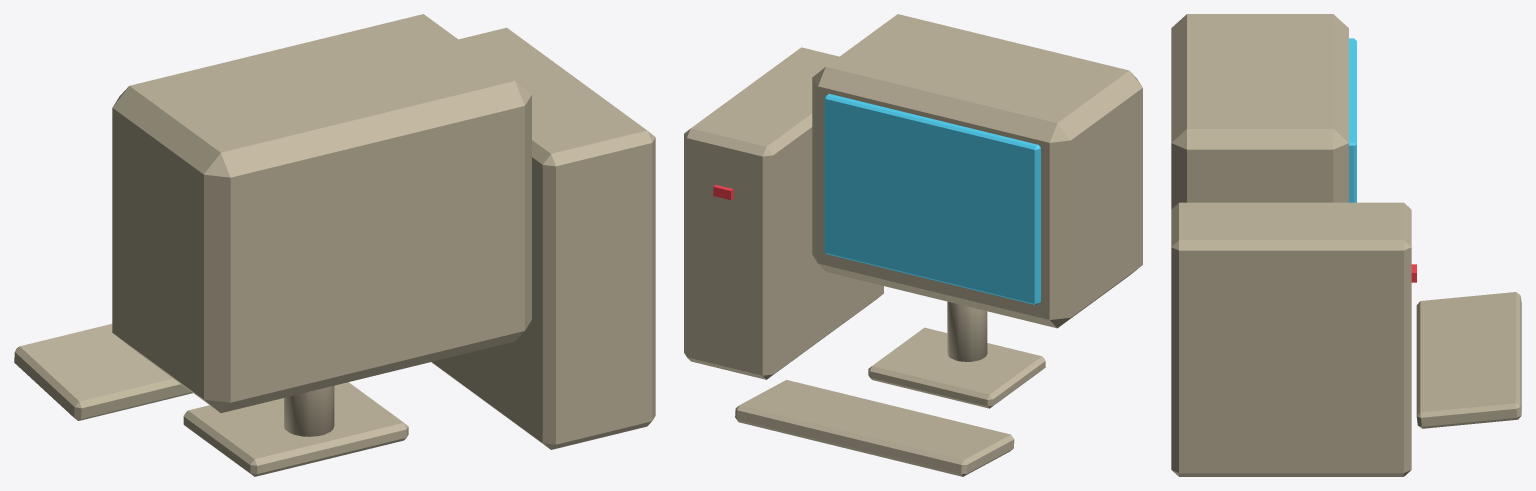
File: prop_desktop_computer.obj
The picture shows the model from 3 angles, left to right: view 1: azimuth 30°, elevation 25°; view 2: azimuth 150°, elevation 25°; view 3: azimuth 270°, elevation 25°; orthographic projection. The views are drawn at different scales.
Visible parts, largest first — view 1: MonitorShell, Tower, StandBase, Keyboard, StandNeck; view 2: MonitorShell, Tower, Screen, Keyboard, StandBase, StandNeck; view 3: Tower, MonitorShell, Keyboard, Screen.
Part boxes in pixels (x1,y1,x2,y2): MonitorShell: [112, 14, 531, 413]; Tower: [431, 27, 655, 449]; StandBase: [183, 382, 408, 476]; Keyboard: [14, 324, 192, 420]; StandNeck: [284, 386, 334, 436]; MonitorShell: [812, 14, 1142, 328]; Tower: [684, 47, 883, 379]; Screen: [824, 93, 1040, 304]; Keyboard: [735, 380, 1014, 476]; StandBase: [868, 327, 1045, 408]; StandNeck: [947, 301, 987, 361]; Tower: [1171, 202, 1411, 476]; MonitorShell: [1171, 14, 1348, 209]; Keyboard: [1416, 292, 1521, 428]; Screen: [1349, 38, 1356, 202].
Bounding box in the file's own units: 0.79 × 0.637 × 0.6704.
